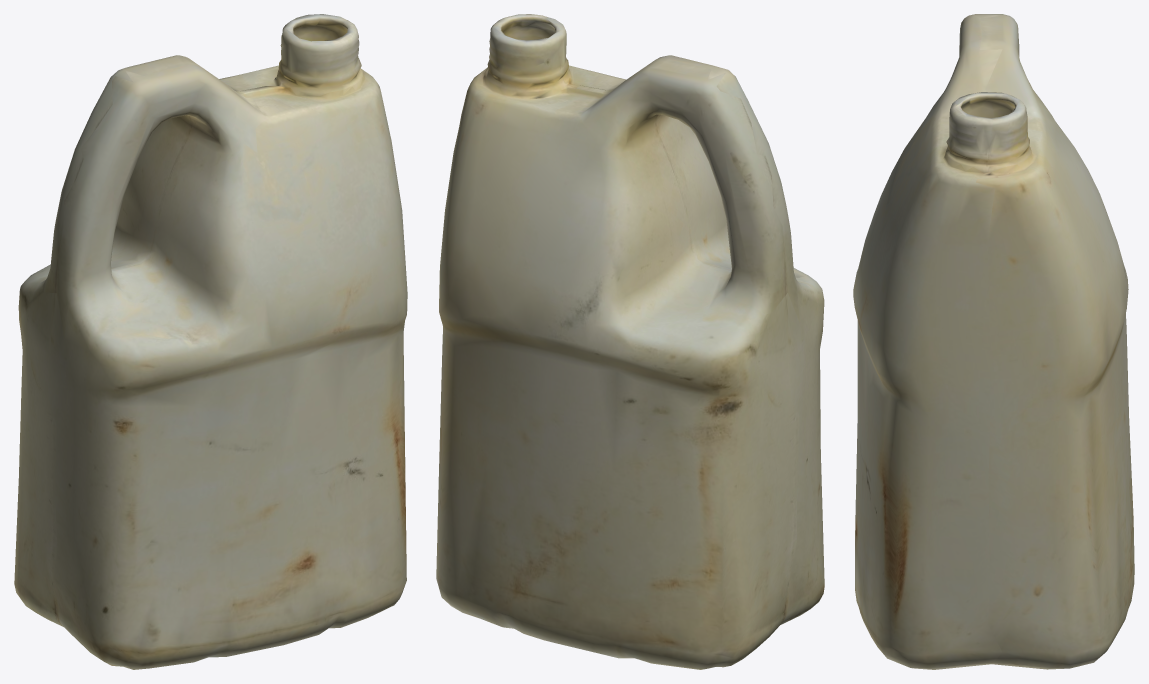
The model's file is plastic_bottle_gallon.fbx.
3 renders of one model, left to right at view 1: azimuth 30°, elevation 25°; view 2: azimuth 150°, elevation 25°; view 3: azimuth 270°, elevation 25°, orthographic.
Visible parts, largest first — view 1: plastic_bottle_gallon_LOD0; view 2: plastic_bottle_gallon_LOD0; view 3: plastic_bottle_gallon_LOD0.
Part boxes in pixels (<box>): plastic_bottle_gallon_LOD0: <box>14,14,407,669</box>; plastic_bottle_gallon_LOD0: <box>436,14,824,669</box>; plastic_bottle_gallon_LOD0: <box>853,14,1134,669</box>.
Size of what is drawn, in the model's own units: 16.63 by 27.46 by 12.64.
Materials: 1 (1 with a texture image).
